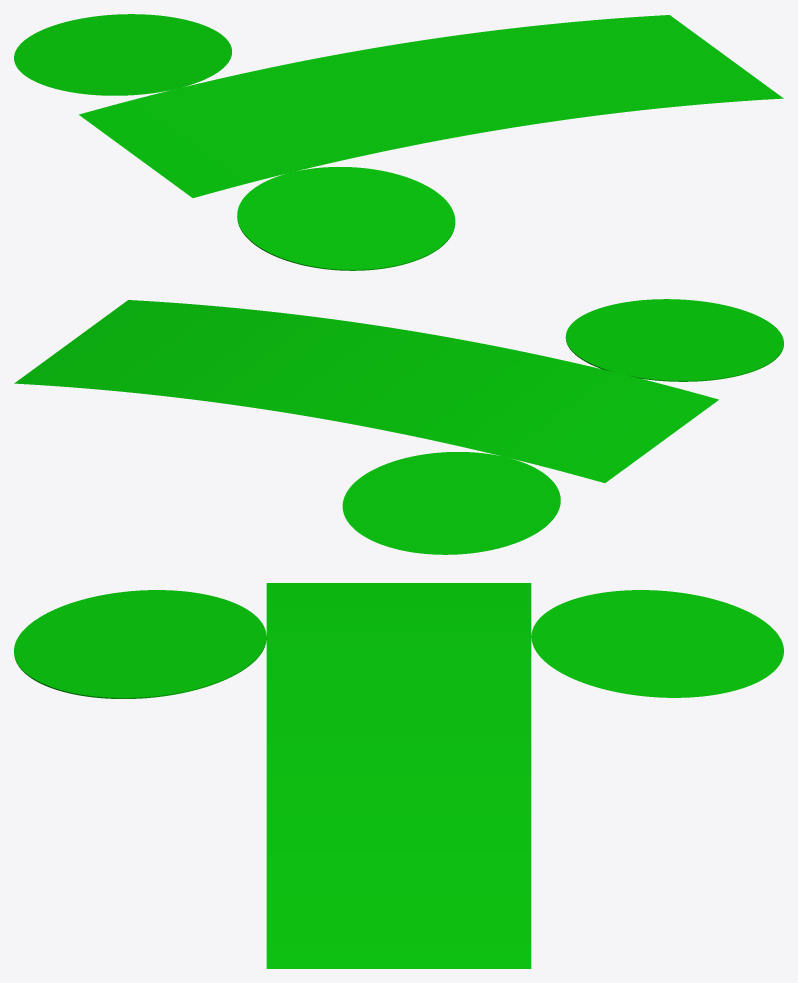
Rendered from plane bend12.obj.
3 views of the same model, one above another, from view 1: azimuth 30°, elevation 25°; view 2: azimuth 150°, elevation 25°; view 3: azimuth 270°, elevation 25° (orthographic). The views are drawn at different scales.
Parts seen in each view (by area): view 1: Plane, Circle, Circle.001; view 2: Plane, Circle.001, Circle; view 3: Plane, Circle, Circle.001.
Part boxes in pixels (bbox=[...]): Plane: bbox=[79, 15, 783, 197]; Circle: bbox=[237, 167, 455, 270]; Circle.001: bbox=[14, 14, 231, 95]; Plane: bbox=[14, 300, 718, 482]; Circle.001: bbox=[342, 452, 560, 554]; Circle: bbox=[565, 299, 783, 381]; Plane: bbox=[266, 583, 531, 968]; Circle: bbox=[14, 590, 266, 698]; Circle.001: bbox=[531, 590, 783, 697].
Size of the model in its own units: 5.97 by 0.4477 by 5.81.
